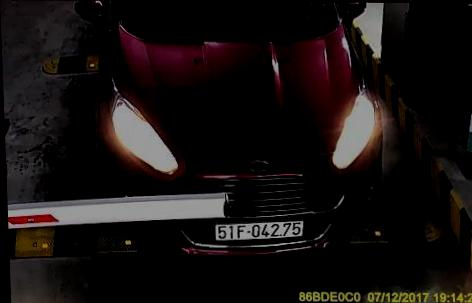License_Plate: (212, 219, 306, 242)
